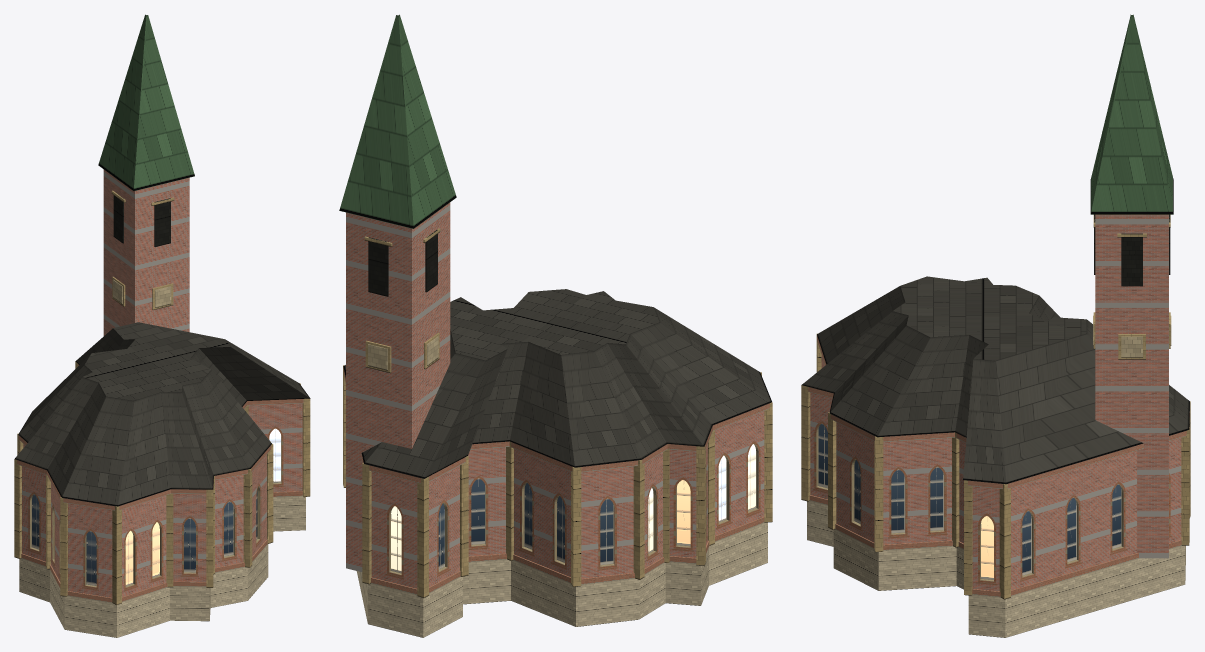
The model's file is k39w3_buehl.glb.
3 views of the same model, side by side, from view 1: azimuth 30°, elevation 25°; view 2: azimuth 150°, elevation 25°; view 3: azimuth 270°, elevation 25° (orthographic). The views are drawn at different scales.
Visible parts, largest first — view 1: k39w3_buehl; view 2: k39w3_buehl; view 3: k39w3_buehl.
Part boxes in pixels (x1=…): k39w3_buehl: x1=14, y1=14, x2=310, y2=637; k39w3_buehl: x1=339, y1=14, x2=772, y2=637; k39w3_buehl: x1=801, y1=14, x2=1190, y2=637.
Bounding box in the file's own units: 34.89 × 54.5 × 33.79.
Materials: 3 (3 with a texture image).
